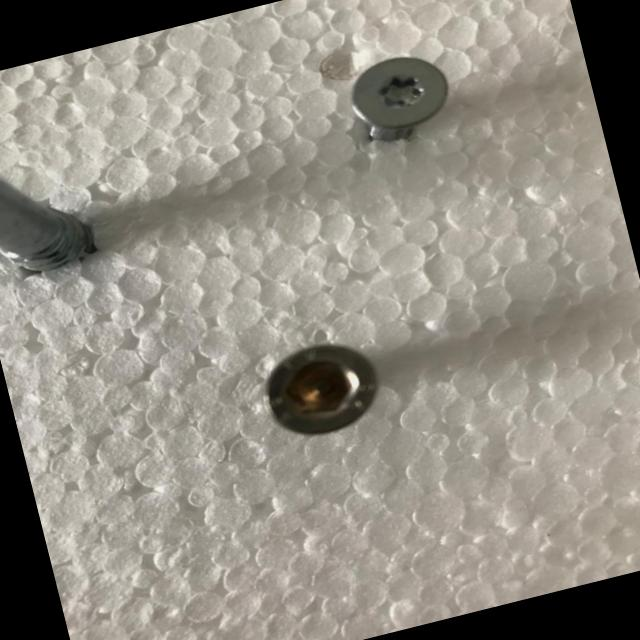Hex Socket Allen: (254, 330, 390, 446)
Torx: (342, 45, 456, 138)
